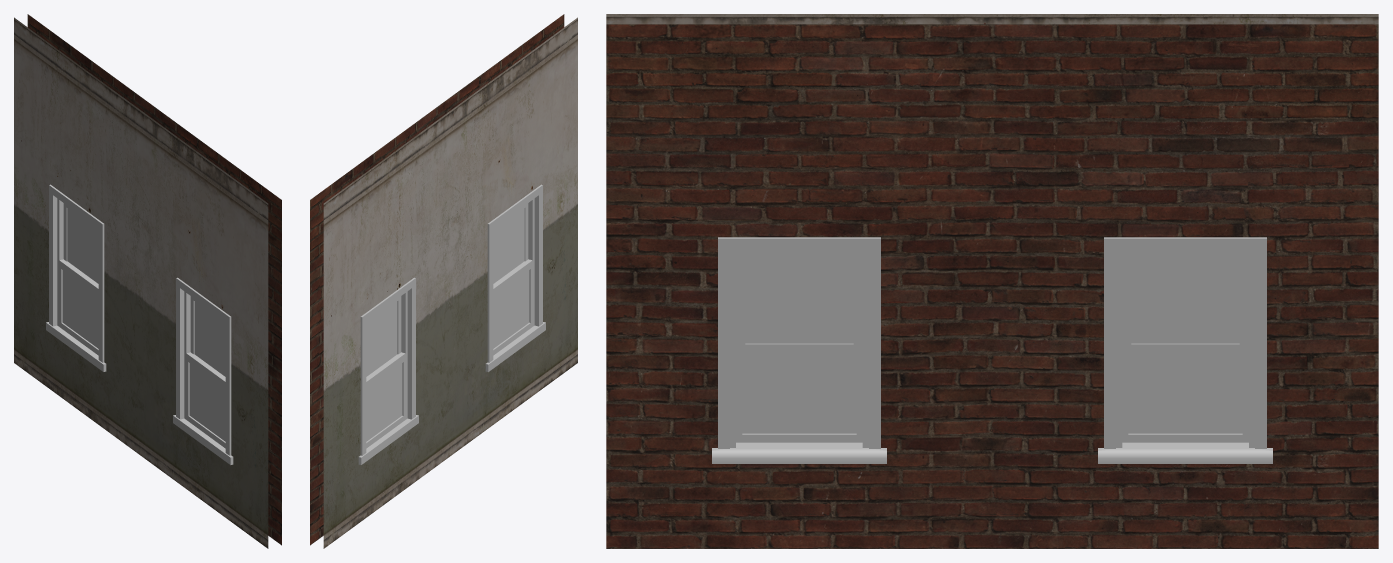
Rendered from walltile_windowsmall_256x8x192.fbx.
3 views of the same model, side by side, from view 1: azimuth 30°, elevation 25°; view 2: azimuth 150°, elevation 25°; view 3: azimuth 270°, elevation 25° (orthographic). The views are drawn at different scales.
Visible parts, largest first — view 1: walltile_windowsmall_256x16x192; view 2: walltile_windowsmall_256x16x192; view 3: walltile_windowsmall_256x16x192.
Boxes of the visible parts, x1,y1,x2,y2 form: walltile_windowsmall_256x16x192: [14, 14, 281, 548]; walltile_windowsmall_256x16x192: [310, 14, 577, 548]; walltile_windowsmall_256x16x192: [606, 14, 1378, 548].
Size of the model in its own units: 13.27 by 192 by 256.
